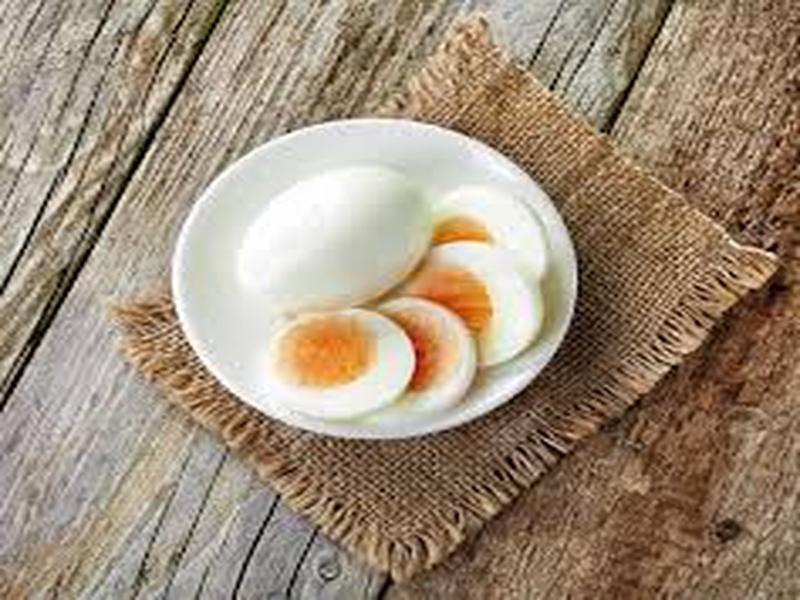egg: (218, 158, 561, 411)
